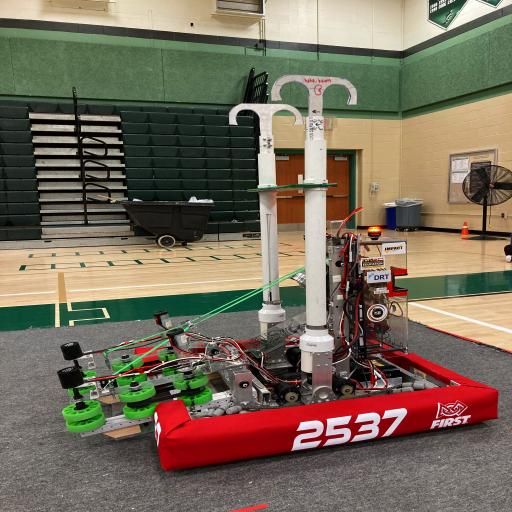robot: (56, 71, 502, 451)
